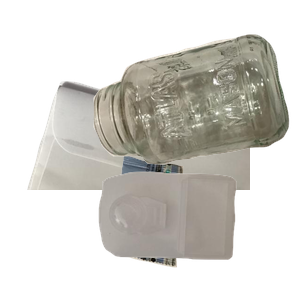glass: (91, 32, 300, 189)
paper: (25, 79, 265, 259)
plastic: (96, 169, 300, 300)
trash: (104, 152, 280, 300)
